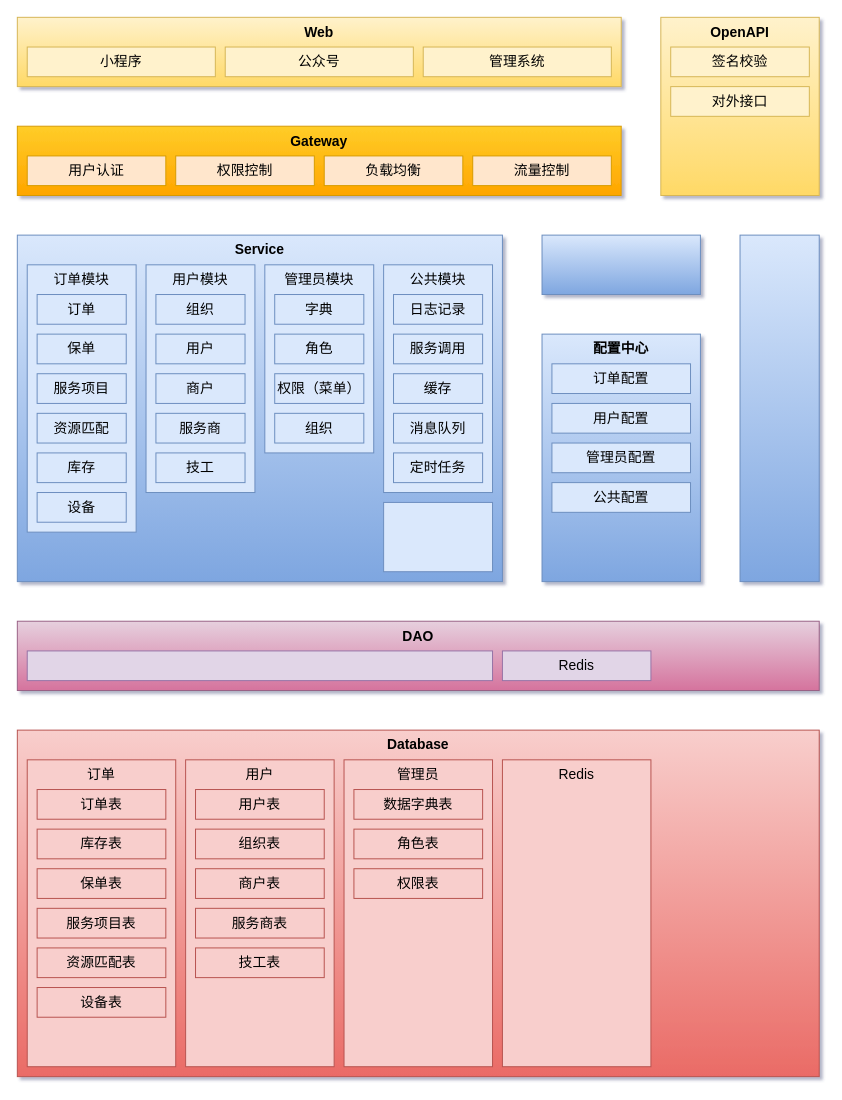
This 842x1100 diagram has some shape labels left out. The shapes that lost their labels are listed below. From the top down, each one's centre as x and y in pixels, then its label:
point 620,264: 注册中心
point 779,408: MQ
point 438,536: API模块
point 259,665: MySQL
